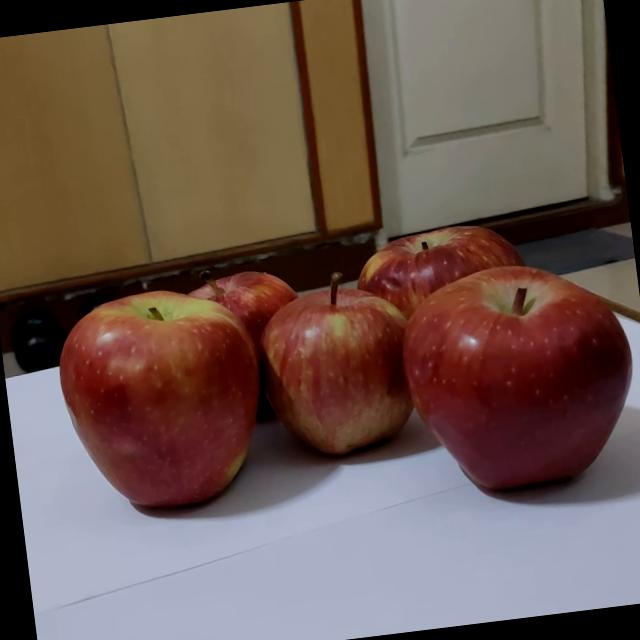apple: (387, 256, 640, 530), (368, 217, 584, 426), (39, 296, 248, 512), (220, 296, 406, 482), (192, 242, 348, 396)
